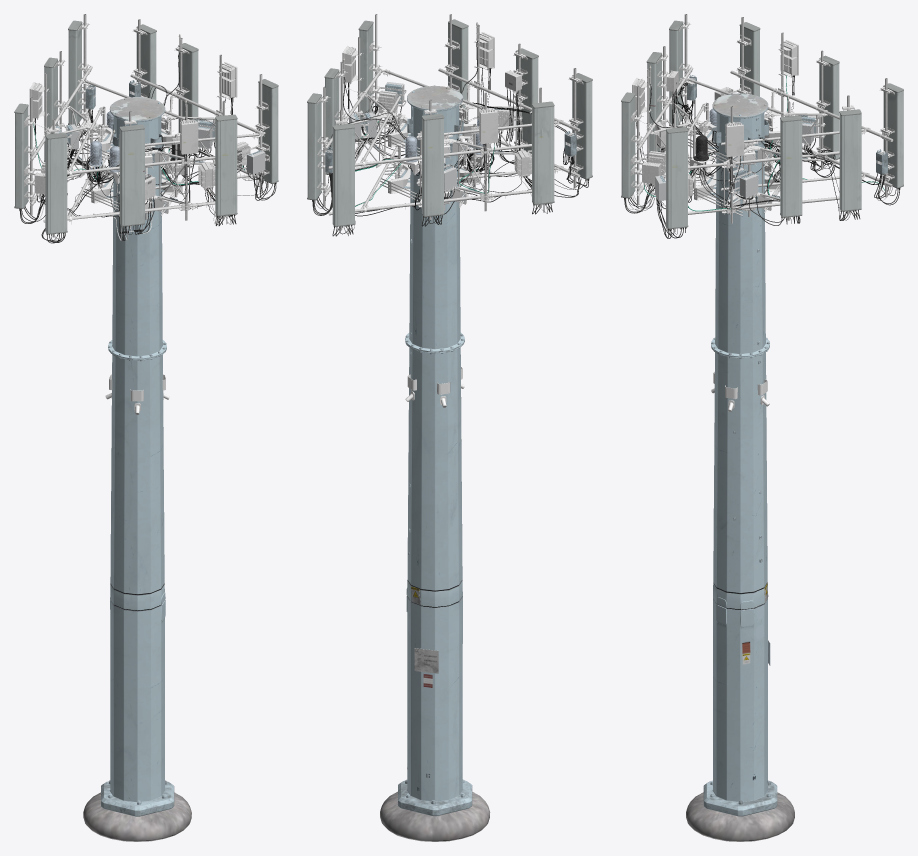
Rendered from SICA001946.glb.
3 renders of one model, left to right at view 1: azimuth 30°, elevation 25°; view 2: azimuth 150°, elevation 25°; view 3: azimuth 270°, elevation 25°, orthographic.
Visible parts, largest first — view 1: frame.004, frame.002, polySurface279, Cellular_Antenna_09, Cellular_Antenna_08, Cellular_Antenna_03, frame.001, Cellular_Antenna_04, Cellular_Antenna_07, Cellular_Antenna_06, Cellular_Antenna_02, Cellular_Antenna_01 (+7 smaller); view 2: frame.004, frame.002, polySurface279, Cellular_Antenna_07, Cellular_Antenna_06, Cellular_Antenna_05, frame.001, Cellular_Antenna_08, Cellular_Antenna_01, Cellular_Antenna_09, Cellular_Antenna_03, polySurface224 (+4 smaller); view 3: frame.004, frame.002, polySurface279, Cellular_Antenna_02, Cellular_Antenna_01, Cellular_Antenna_04, Cellular_Antenna_06, Cellular_Antenna_05, frame.001, Cellular_Antenna_03, Cellular_Antenna_07, Cellular_Antenna_08 (+6 smaller).
Part boxes in pixels (left/top/right/bottom): frame.004: left=35, top=80, right=231, bottom=841; frame.002: left=30, top=54, right=263, bottom=222; polySurface279: left=19, top=52, right=276, bottom=243; Cellular_Antenna_09: left=119, top=124, right=144, bottom=226; Cellular_Antenna_08: left=45, top=132, right=67, bottom=234; Cellular_Antenna_03: left=215, top=114, right=237, bottom=216; frame.001: left=30, top=67, right=265, bottom=224; Cellular_Antenna_04: left=258, top=79, right=278, bottom=183; Cellular_Antenna_07: left=14, top=103, right=28, bottom=208; Cellular_Antenna_06: left=68, top=20, right=82, bottom=125; Cellular_Antenna_02: left=178, top=43, right=198, bottom=132; Cellular_Antenna_01: left=136, top=24, right=156, bottom=99; frame.004: left=325, top=75, right=576, bottom=841; frame.002: left=324, top=22, right=579, bottom=215; polySurface279: left=312, top=41, right=589, bottom=236; Cellular_Antenna_07: left=532, top=101, right=554, bottom=204; Cellular_Antenna_06: left=332, top=123, right=354, bottom=226; Cellular_Antenna_05: left=421, top=113, right=444, bottom=217; frame.001: left=324, top=38, right=580, bottom=211; Cellular_Antenna_08: left=572, top=73, right=592, bottom=179; Cellular_Antenna_01: left=307, top=93, right=321, bottom=200; Cellular_Antenna_09: left=515, top=48, right=538, bottom=153; Cellular_Antenna_03: left=448, top=19, right=468, bottom=122; polySurface224: left=376, top=109, right=410, bottom=193; frame.004: left=680, top=75, right=887, bottom=841; frame.002: left=635, top=32, right=893, bottom=223; polySurface279: left=624, top=75, right=900, bottom=238; Cellular_Antenna_02: left=780, top=115, right=802, bottom=217; Cellular_Antenna_01: left=839, top=109, right=861, bottom=211; Cellular_Antenna_04: left=666, top=127, right=688, bottom=229; Cellular_Antenna_06: left=883, top=83, right=903, bottom=188; Cellular_Antenna_05: left=819, top=55, right=839, bottom=159; frame.001: left=636, top=45, right=893, bottom=214; Cellular_Antenna_03: left=621, top=92, right=635, bottom=198; Cellular_Antenna_07: left=739, top=22, right=760, bottom=96; Cellular_Antenna_08: left=669, top=20, right=683, bottom=125.
Bounding box in the file's own units: 4.86 × 15.31 × 5.19.
7 materials, 4 textured.
